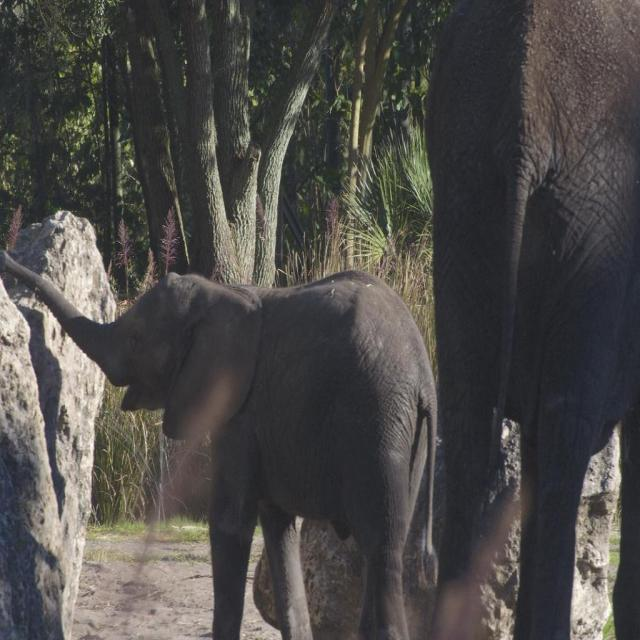elephant: (36, 249, 452, 640), (429, 0, 639, 639)
